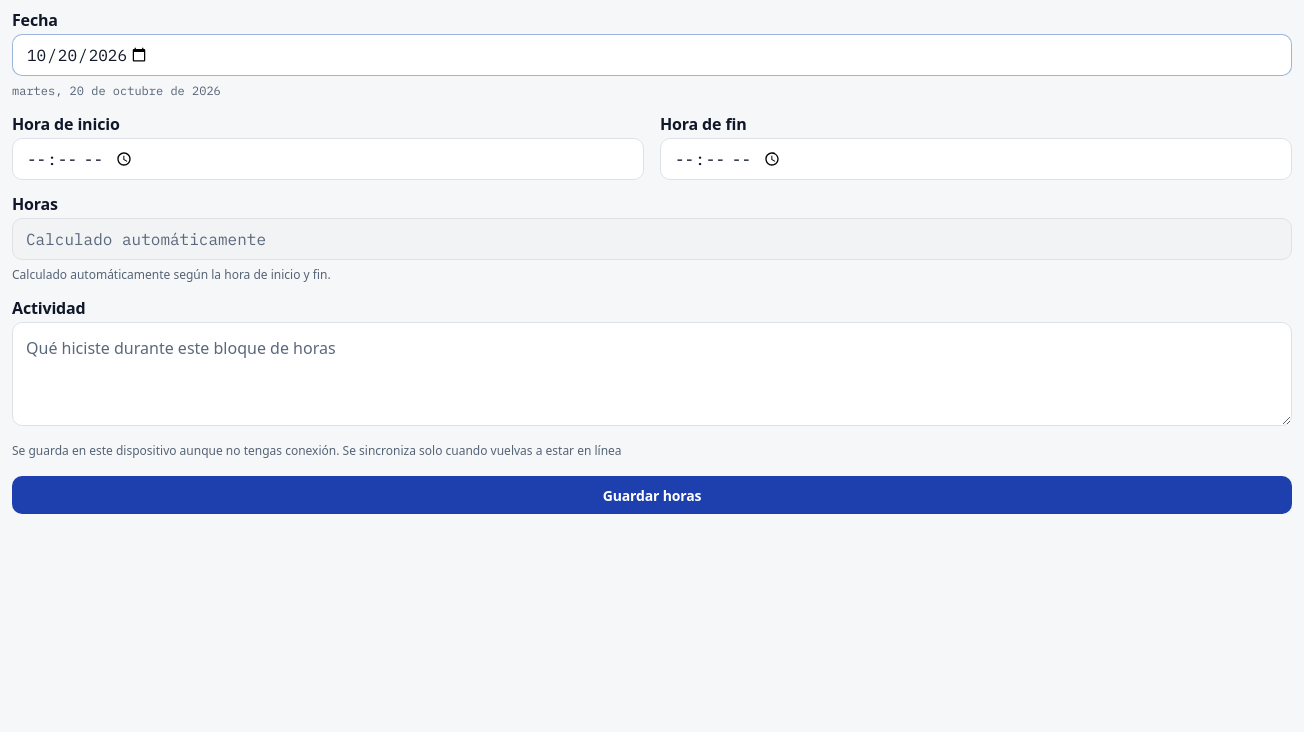
Test: HourLogForm calendar dates › requires a selected date before making any local writes
This screenshot has width=1304, height=732.
Type "2026-10-13" into the date field labelled "Fecha" at (652, 55), box x1=12 y1=34 x2=1292 y2=76
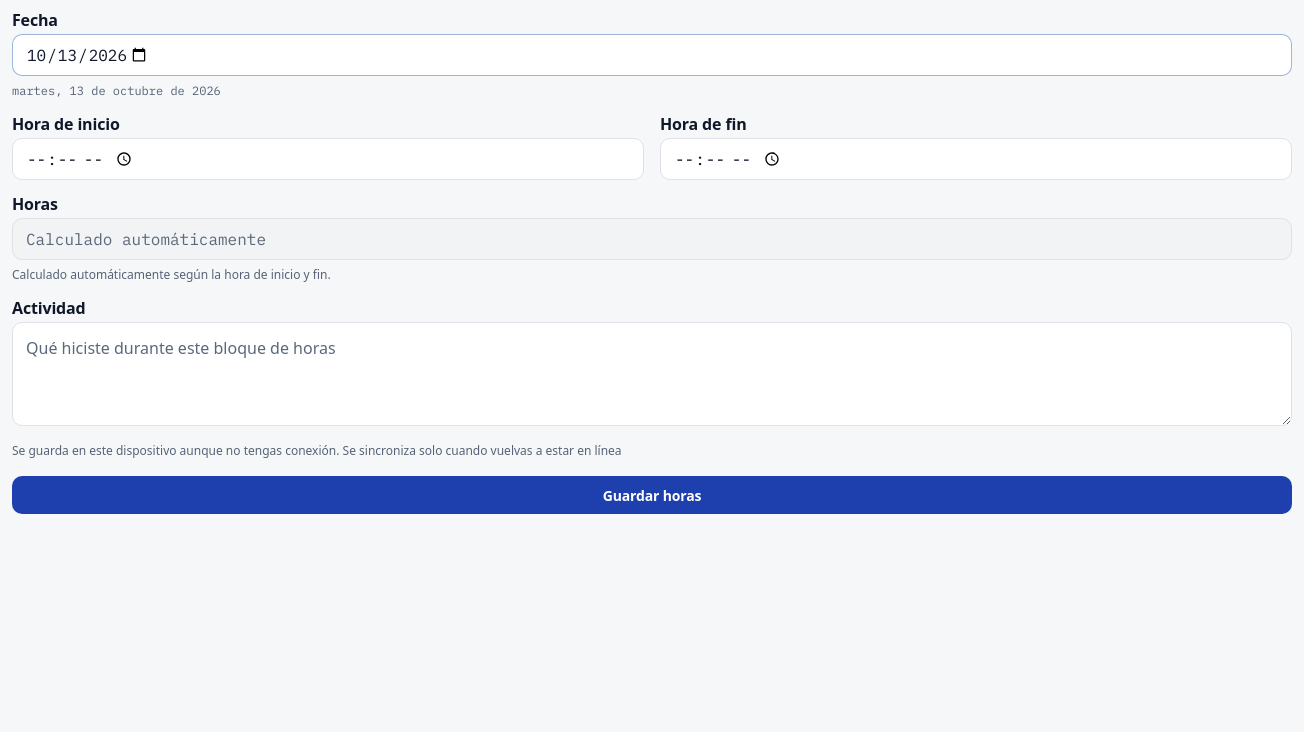
Type "08:00" into the time field labelled "Hora de inicio" at (328, 159), box x1=12 y1=138 x2=644 y2=180
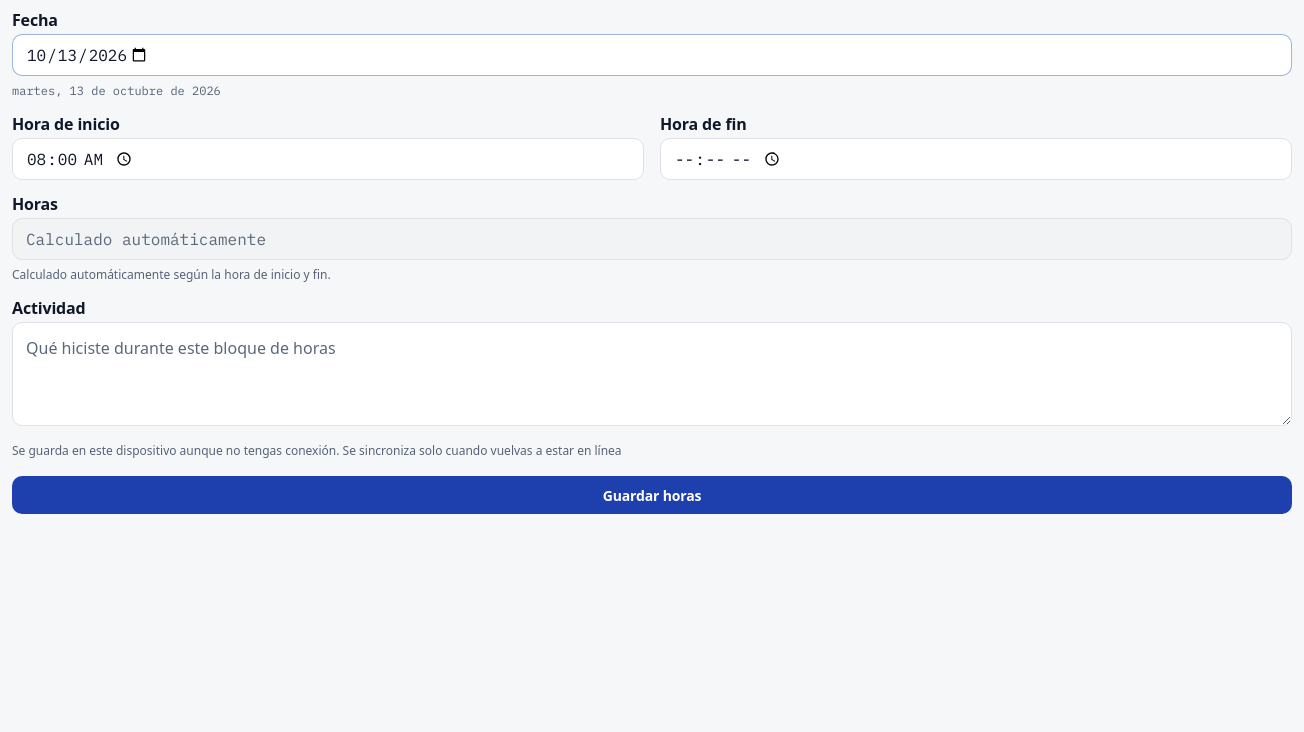
Type "12:00" into the time field labelled "Hora de fin" at (976, 159), box x1=660 y1=138 x2=1292 y2=180
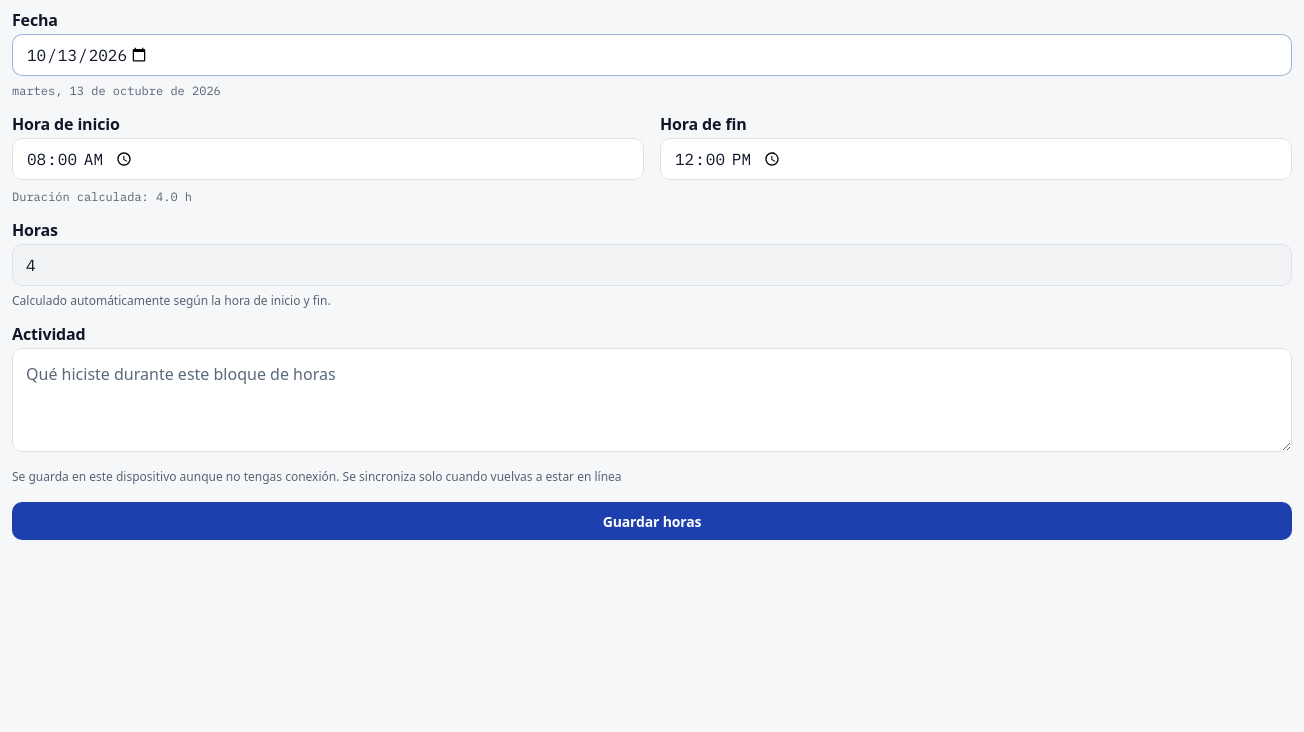
Type "Apoyo en laboratorio" into the text box labelled "Actividad" at (652, 400), box x1=12 y1=348 x2=1292 y2=452
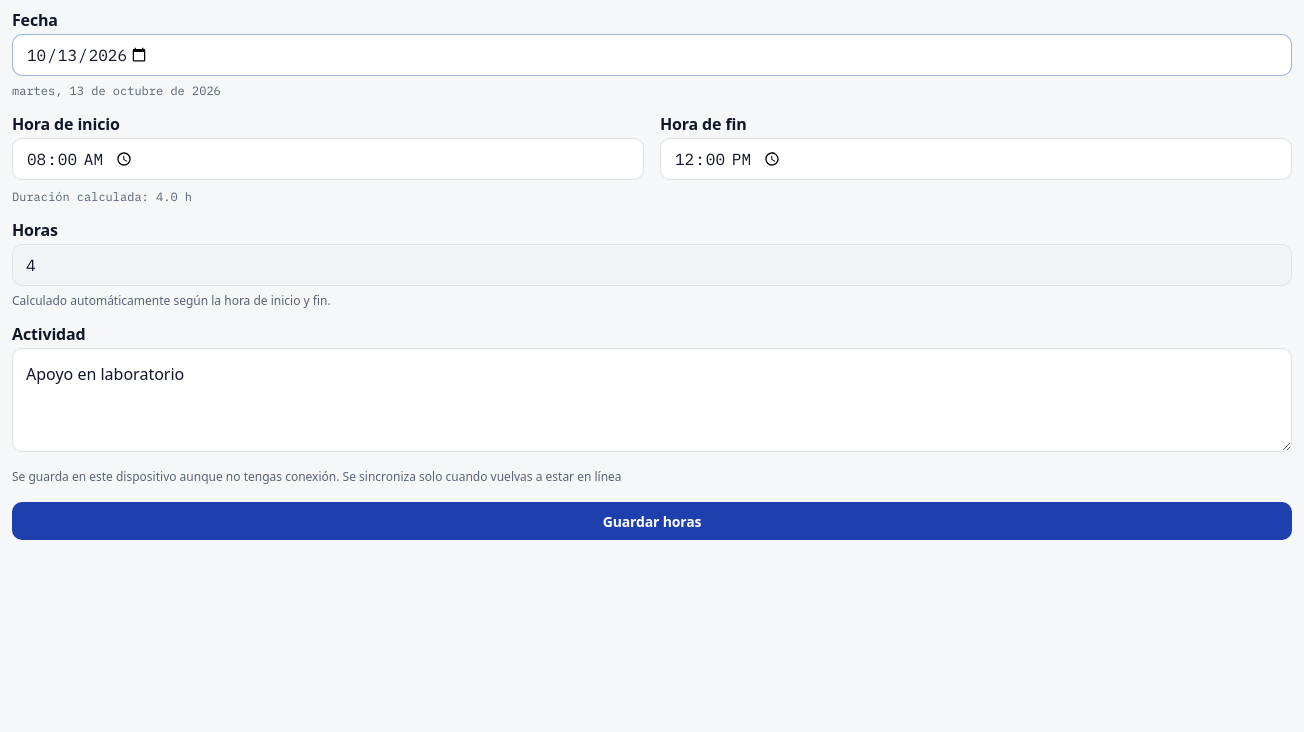
Clear the date field labelled "Fecha" at (652, 55), box x1=12 y1=34 x2=1292 y2=76
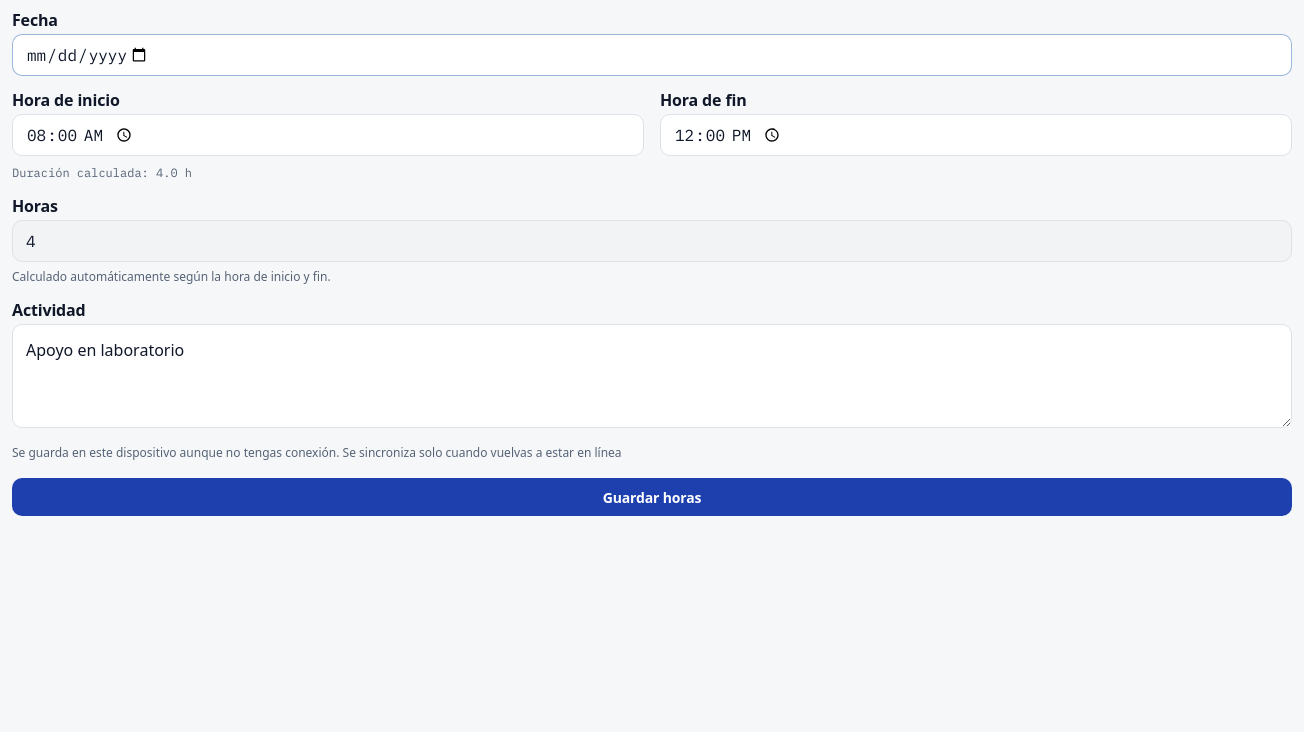
Click the button "Guardar horas" at (652, 497), box x1=12 y1=478 x2=1292 y2=516
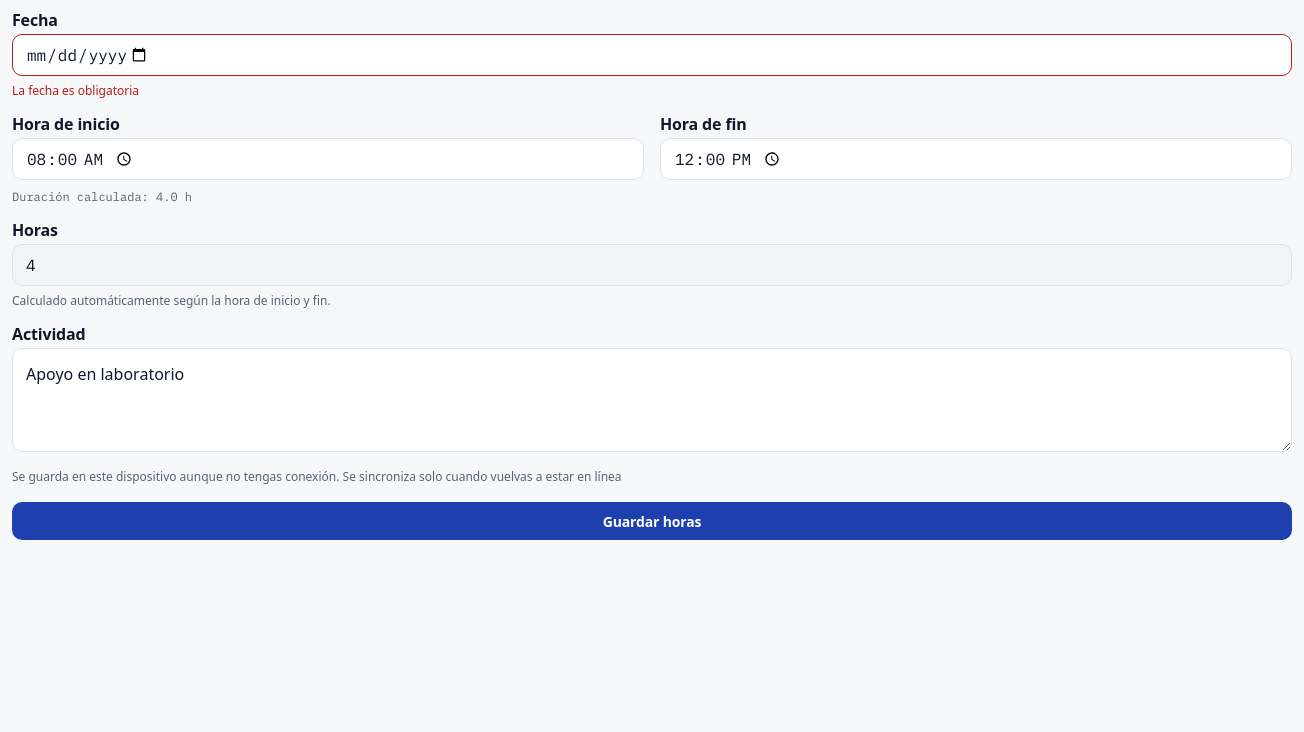
Check: the text "La fecha es obligatoria" is shown, box x1=12 y1=82 x2=139 y2=99
